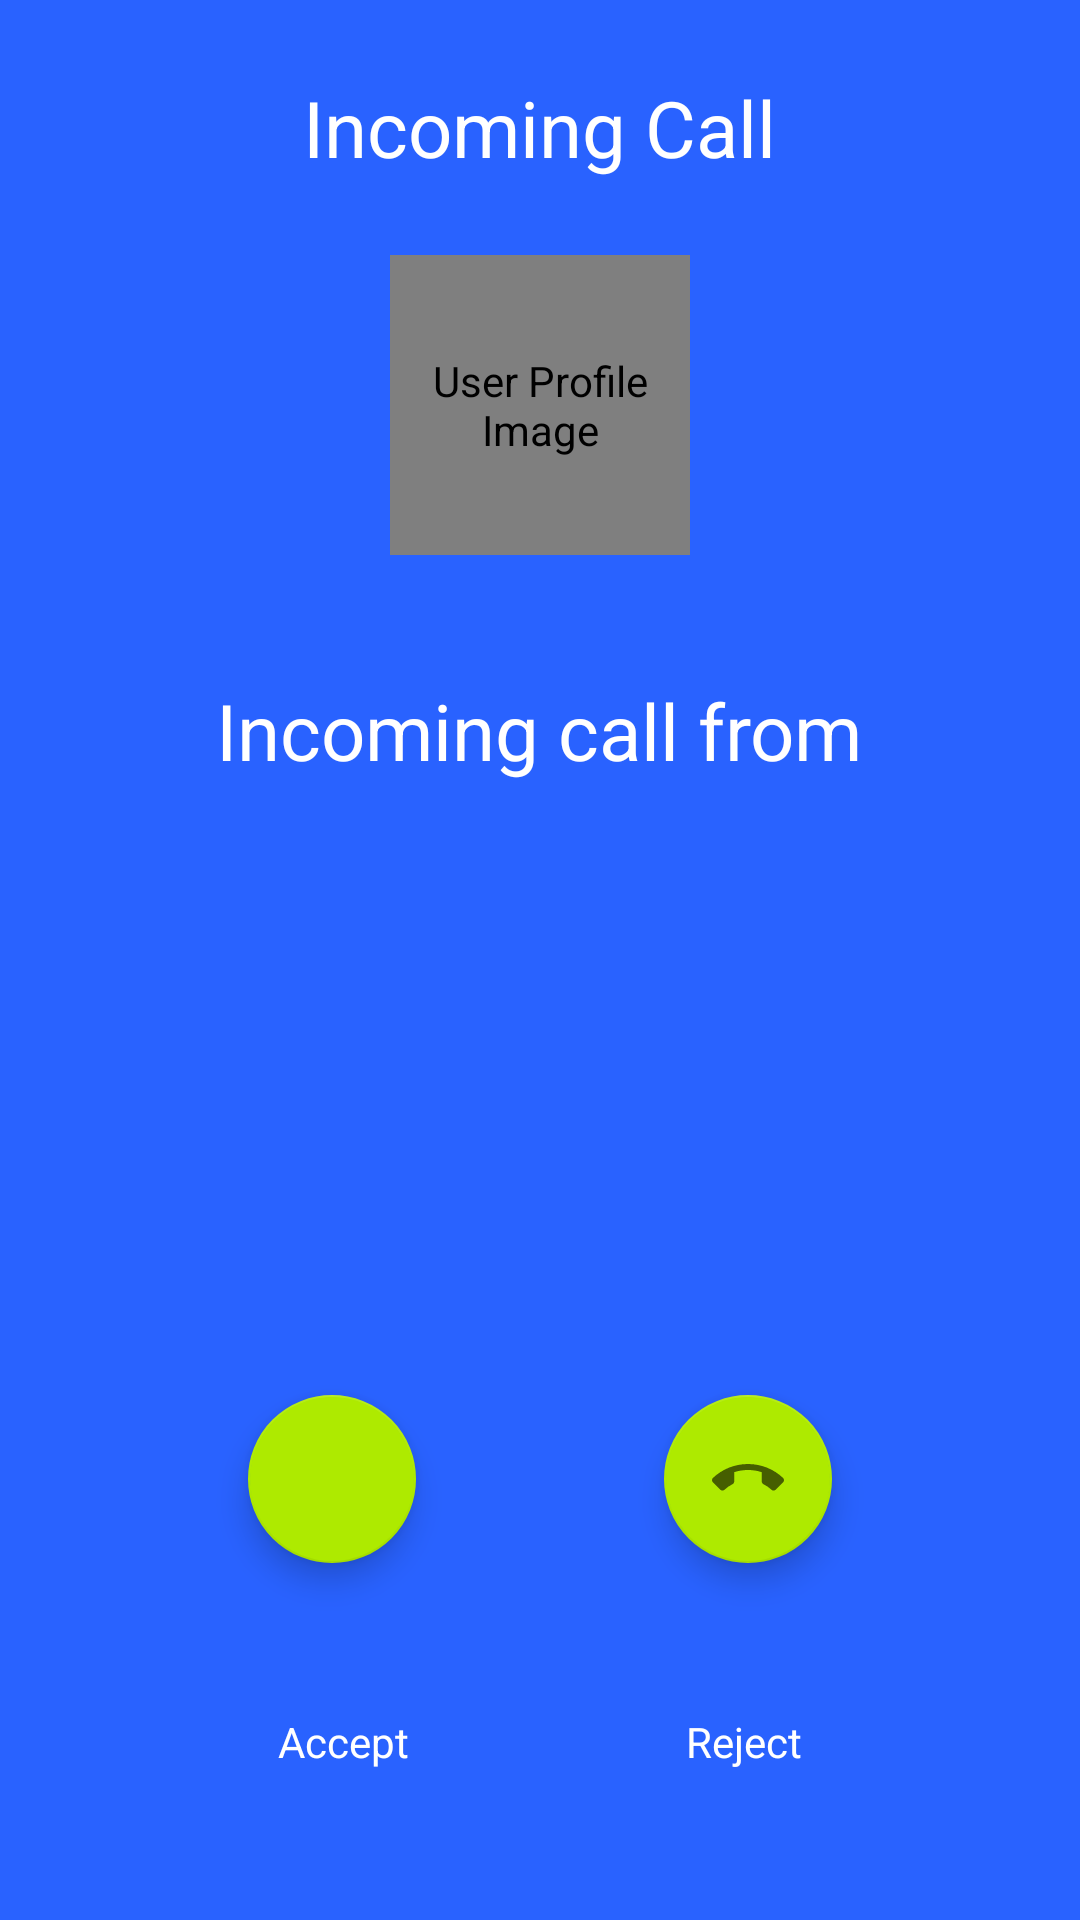

Icon click points for this 1080 x 1920 phone screenshot, format point (x, y):
call end: point (748, 1479)
